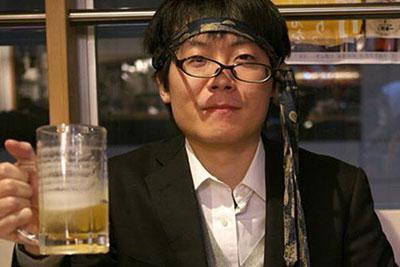Drunk: (170, 30, 270, 141)
